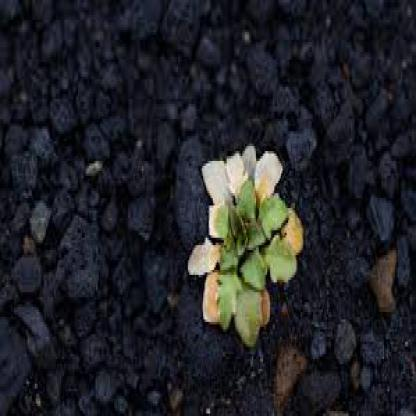Sedimentary_coal: (178, 122, 219, 240), (54, 203, 106, 295), (341, 246, 373, 324), (286, 119, 322, 171), (14, 307, 54, 349), (364, 188, 394, 243), (10, 250, 44, 295), (127, 193, 156, 240), (142, 252, 165, 304), (52, 87, 72, 141)
